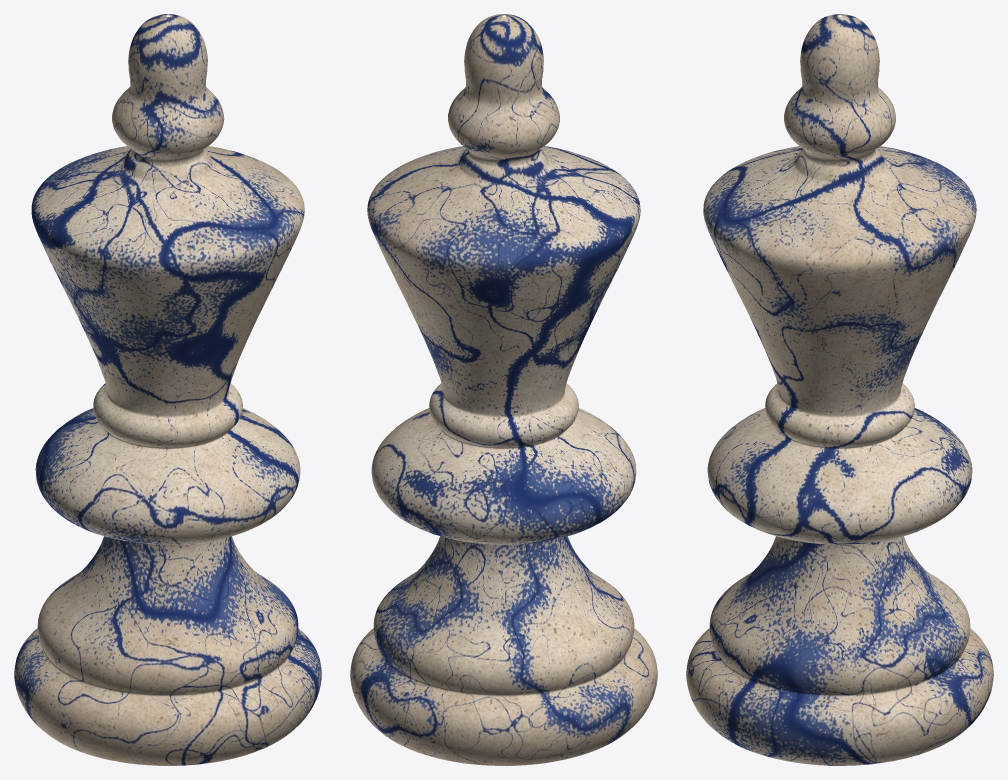
The model's file is king-white-hd.glb.
3 views of the same model, side by side, from view 1: azimuth 30°, elevation 25°; view 2: azimuth 150°, elevation 25°; view 3: azimuth 270°, elevation 25° (orthographic).
Visible parts, largest first — view 1: Cobalt Vein white king; view 2: Cobalt Vein white king; view 3: Cobalt Vein white king.
Boxes of the visible parts, x1,y1,x2,y2 form: Cobalt Vein white king: (14, 14, 321, 765); Cobalt Vein white king: (350, 14, 657, 765); Cobalt Vein white king: (686, 14, 993, 765).
Size of the model in its own units: 0.6611 by 1.65 by 0.6611.
Materials: 1 (1 with a texture image).
